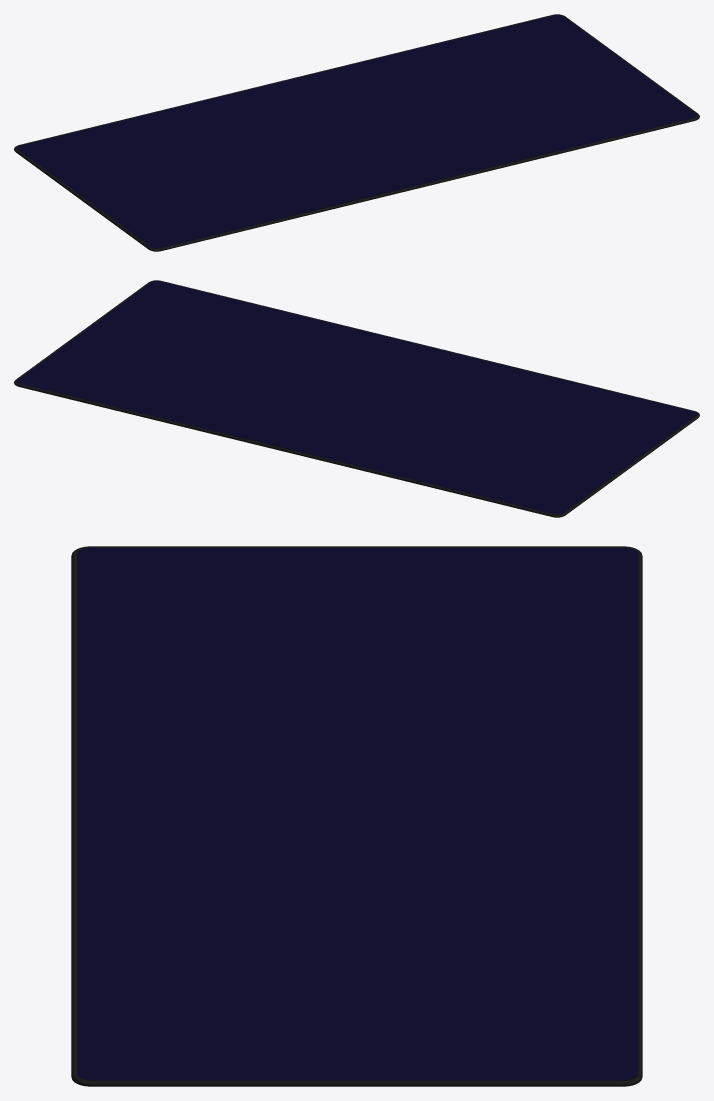
File: Deskmat.glb
The picture shows the model from 3 angles, top to bottom: view 1: azimuth 30°, elevation 25°; view 2: azimuth 150°, elevation 25°; view 3: azimuth 270°, elevation 25°; orthographic projection. The views are drawn at different scales.
Visible parts, largest first — view 1: Deskmat - Mat, Deskmat - Edge; view 2: Deskmat - Mat, Deskmat - Edge; view 3: Deskmat - Mat, Deskmat - Edge.
Part boxes in pixels (bbox=[...]): Deskmat - Mat: bbox=[17, 15, 696, 248]; Deskmat - Edge: bbox=[14, 14, 699, 251]; Deskmat - Mat: bbox=[17, 281, 696, 514]; Deskmat - Edge: bbox=[14, 280, 699, 517]; Deskmat - Mat: bbox=[77, 547, 636, 1080]; Deskmat - Edge: bbox=[71, 546, 642, 1086].
Bounding box in the file's own units: 0.908 × 0.004 × 0.408.
